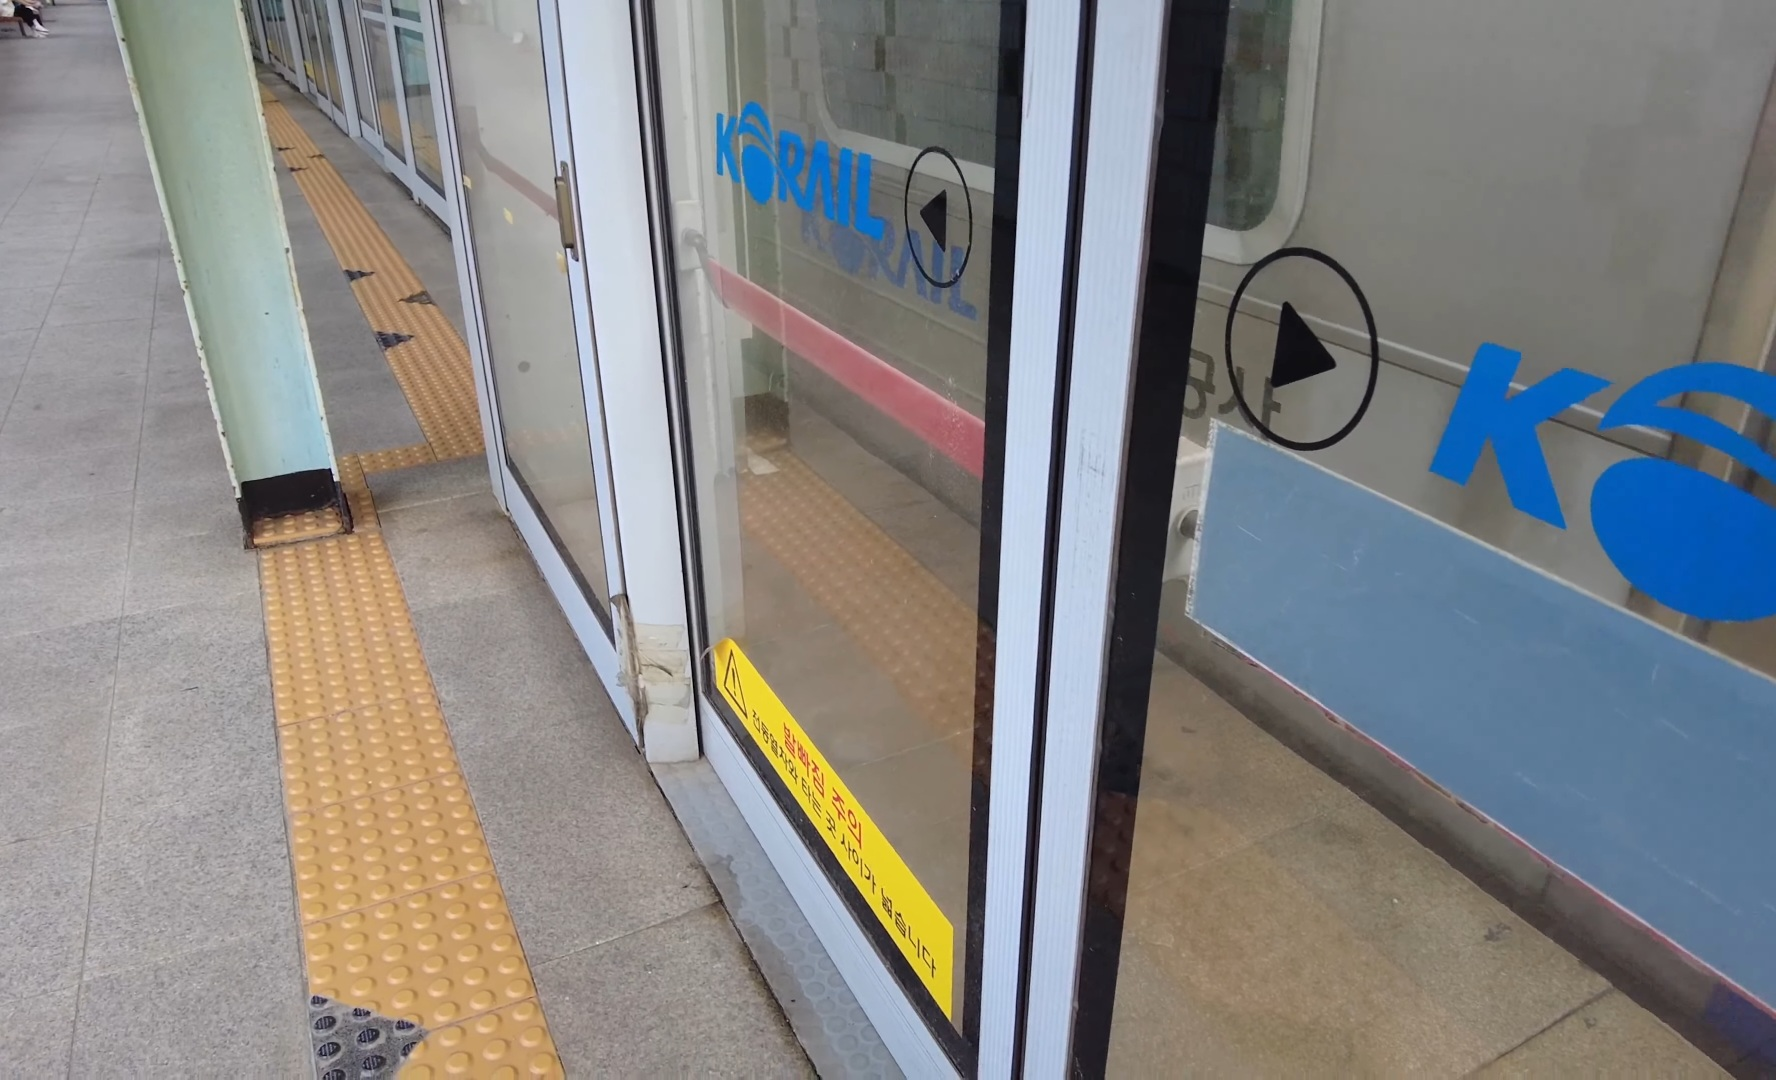warningBlock: (293, 918, 521, 1029), (294, 805, 488, 907), (289, 707, 447, 796), (271, 613, 419, 698), (317, 1031, 556, 1080), (256, 544, 401, 621)
